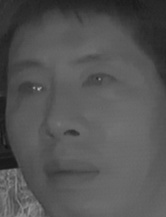eye: (13, 76, 50, 101), (77, 71, 119, 91)
mouth: (36, 153, 100, 190)
